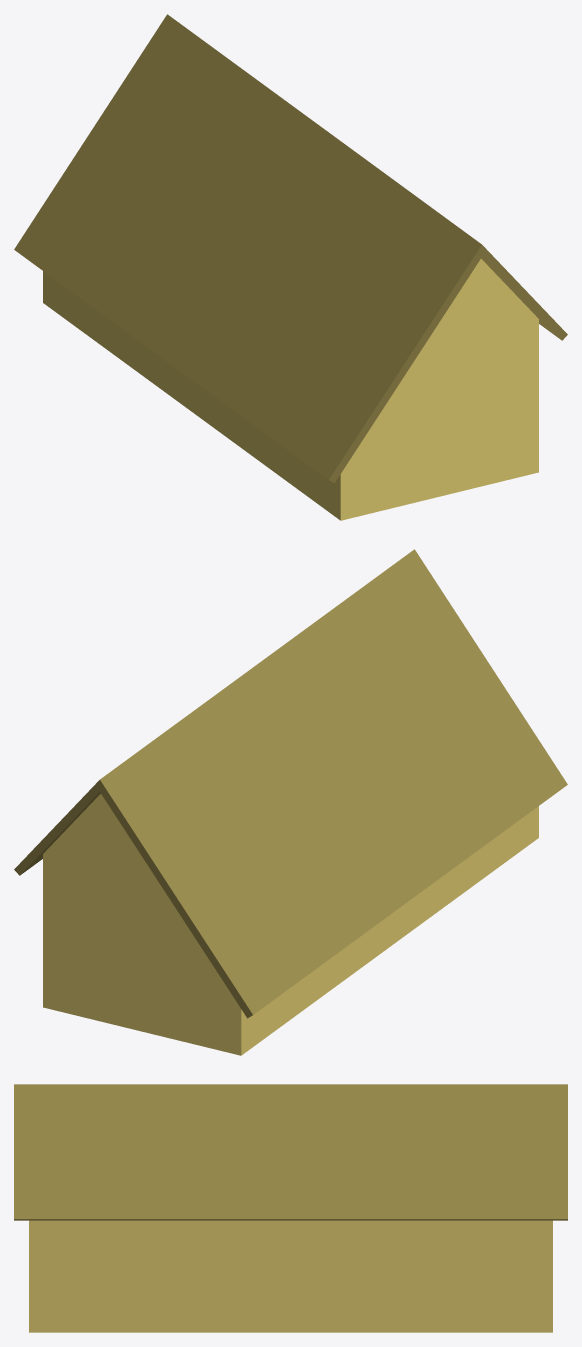
The model's file is result.glb.
3 renders of one model, top to bottom at view 1: azimuth 30°, elevation 25°; view 2: azimuth 150°, elevation 25°; view 3: azimuth 270°, elevation 25°, orthographic. The views are drawn at different scales.
Parts seen in each view (by area): view 1: b614d97d-0072-4698-87b4-78d5a9d7febb__undefined (×2), 82953f6a-841f-4c1c-a356-5adb05f55122__undefined; view 2: b614d97d-0072-4698-87b4-78d5a9d7febb__undefined (×2), 82953f6a-841f-4c1c-a356-5adb05f55122__undefined; view 3: b614d97d-0072-4698-87b4-78d5a9d7febb__undefined, 82953f6a-841f-4c1c-a356-5adb05f55122__undefined.
Boxes of the visible parts, <box> form: b614d97d-0072-4698-87b4-78d5a9d7febb__undefined (×2): <box>14,14,567,483</box>; 82953f6a-841f-4c1c-a356-5adb05f55122__undefined: <box>43,259,538,520</box>; b614d97d-0072-4698-87b4-78d5a9d7febb__undefined (×2): <box>14,549,567,1018</box>; 82953f6a-841f-4c1c-a356-5adb05f55122__undefined: <box>43,794,538,1055</box>; b614d97d-0072-4698-87b4-78d5a9d7febb__undefined: <box>14,1084,567,1220</box>; 82953f6a-841f-4c1c-a356-5adb05f55122__undefined: <box>29,1220,552,1332</box>.
Bounding box in the file's own units: 813 × 812 × 1853.
